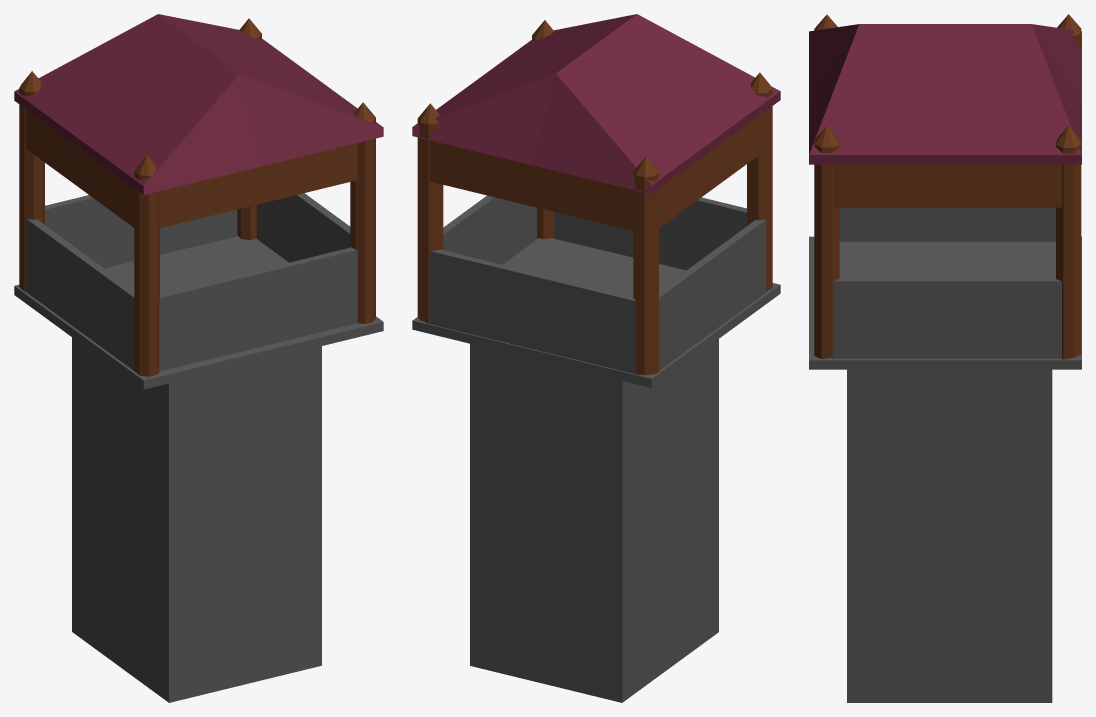
File: Tower - Stone.fbx
3 renders of one model, left to right at view 1: azimuth 30°, elevation 25°; view 2: azimuth 150°, elevation 25°; view 3: azimuth 270°, elevation 25°, orthographic. The views are drawn at different scales.
Parts seen in each view (by area): view 1: Tower_002, Cover; view 2: Tower_002, Cover; view 3: Tower_002, Cover.
Boxes of the visible parts, <box> form: Tower_002: <box>14,193,383,702</box>; Cover: <box>14,14,383,376</box>; Tower_002: <box>412,195,780,702</box>; Cover: <box>412,14,780,375</box>; Tower_002: <box>809,207,1081,702</box>; Cover: <box>809,14,1081,359</box>.
Bounding box in the file's own units: 4.47 × 10.77 × 4.17.
